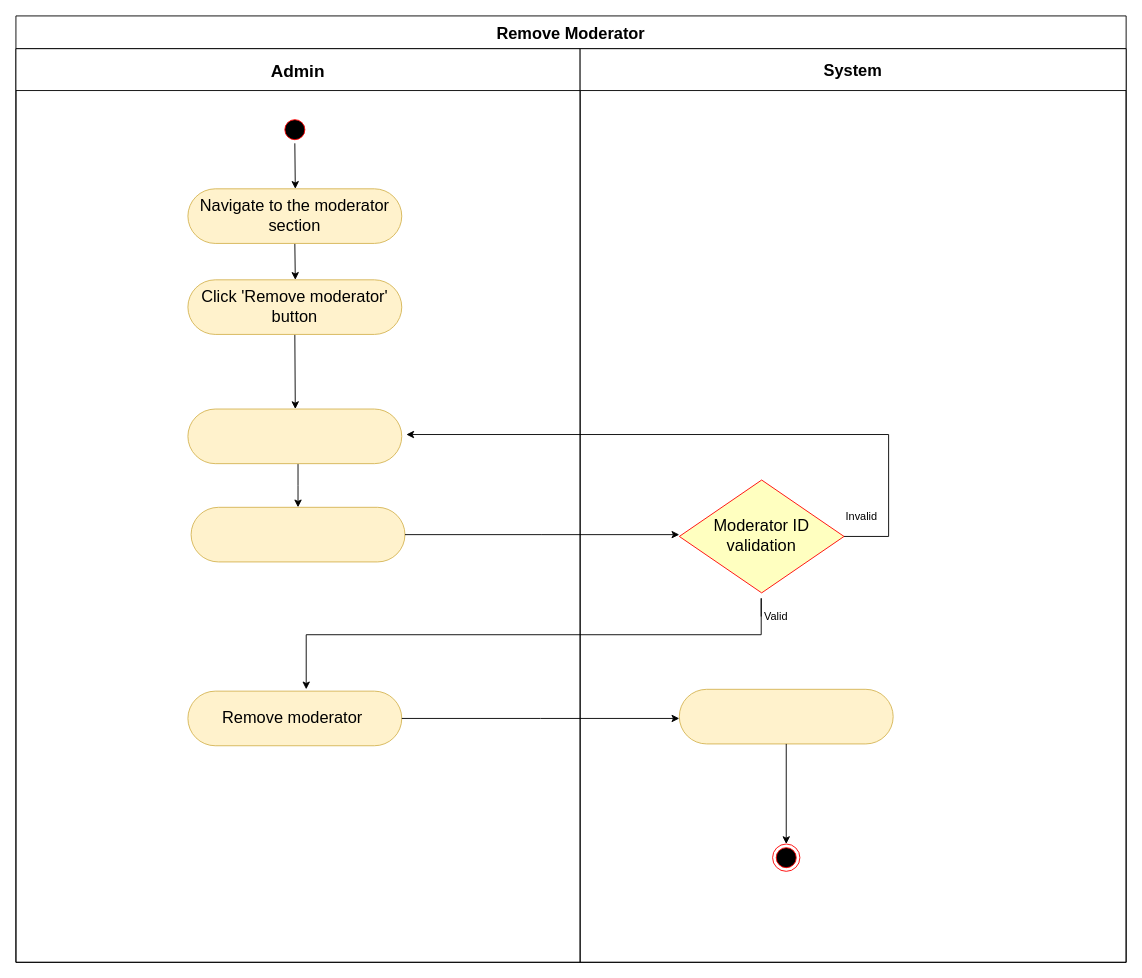
This 1142x978 diagram has some shape labels left out. The box of each missing label's shape, as (x1, y1, x2, y2) in pixels:
Enter the moderator ID: (187, 408, 402, 464)
Press 'Enter' button: (190, 506, 405, 562)
Update database: (678, 688, 893, 744)
